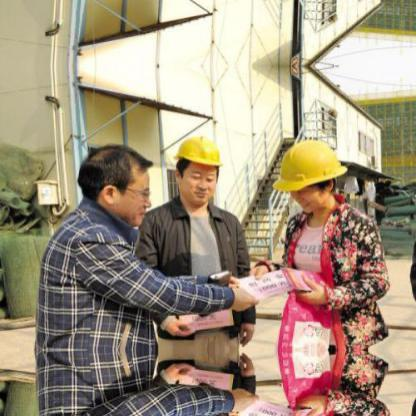head: (76, 140, 152, 226)
helmet: (275, 134, 350, 219), (170, 128, 227, 208)
person: (36, 141, 171, 349), (262, 137, 394, 349), (153, 135, 260, 348), (35, 350, 171, 414), (262, 350, 395, 414), (152, 351, 260, 414)
